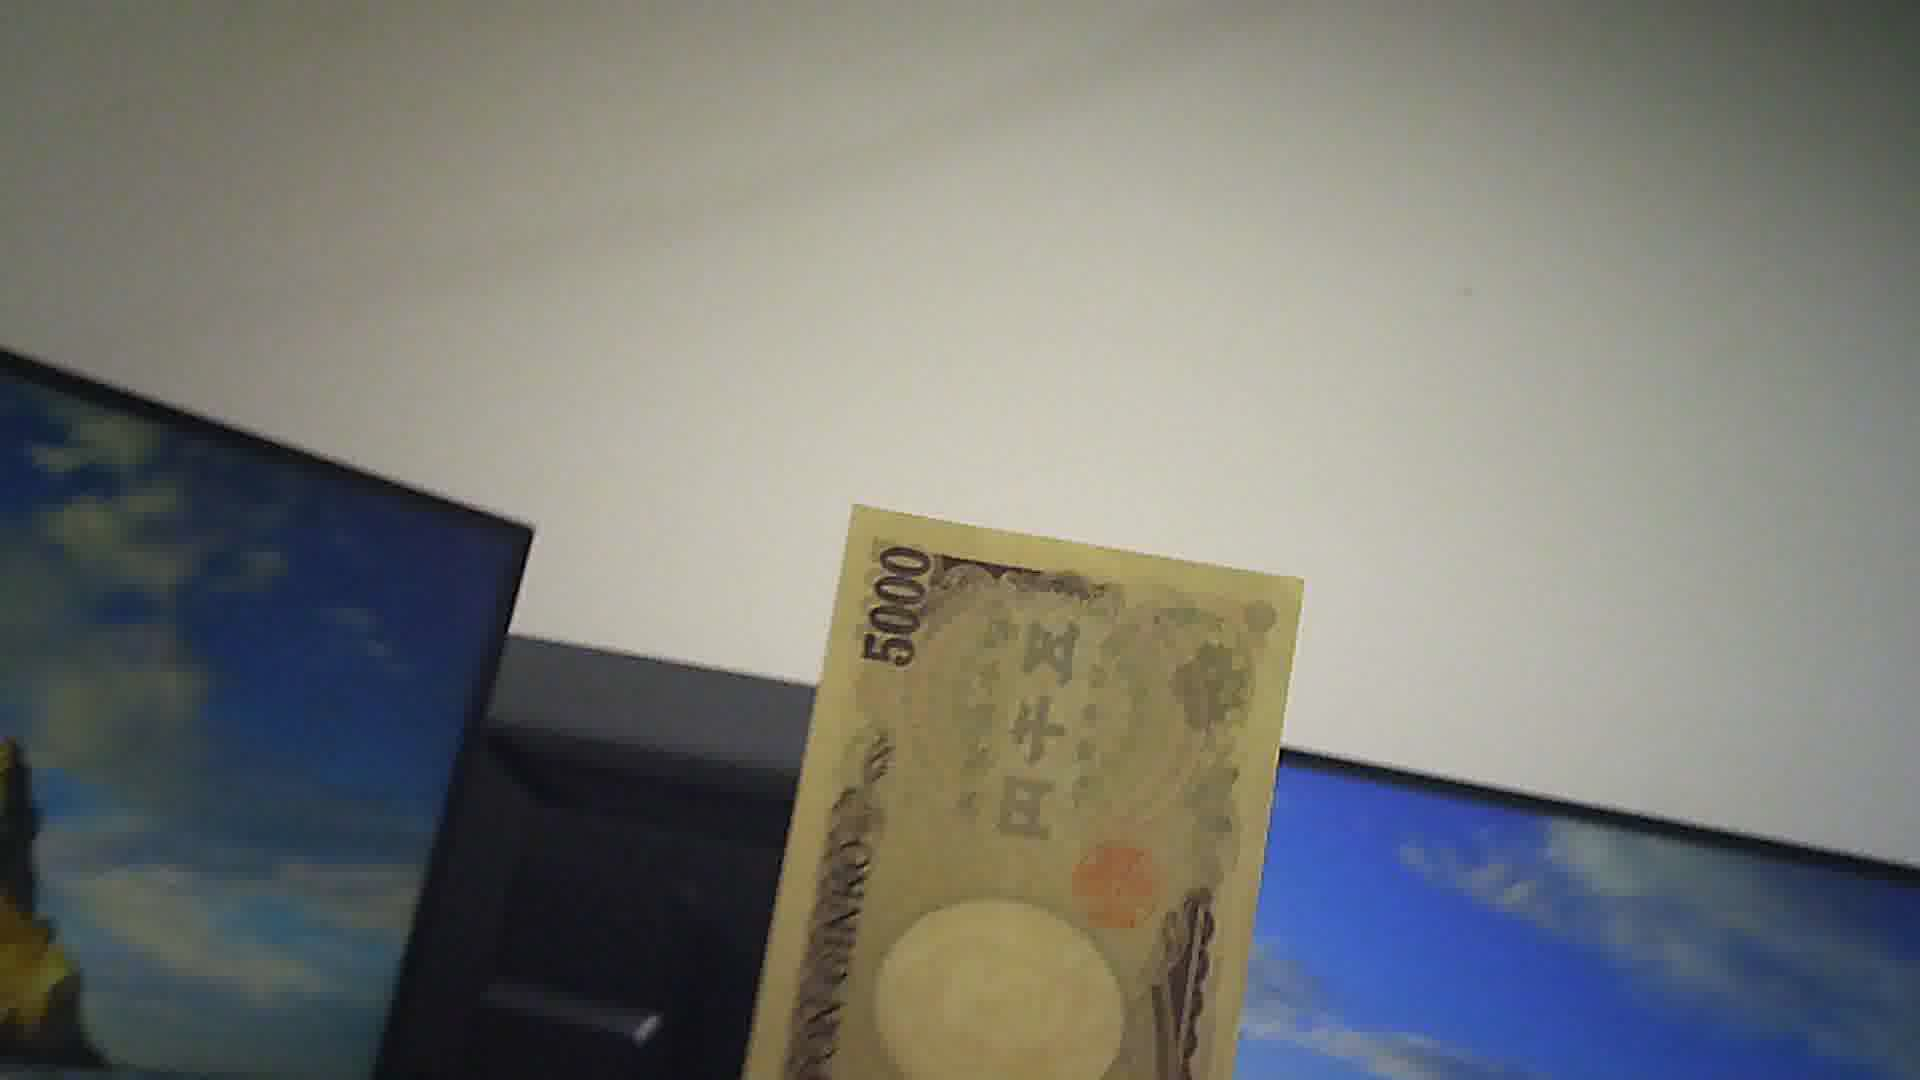5,000 Yen: (770, 506, 1244, 1079)
